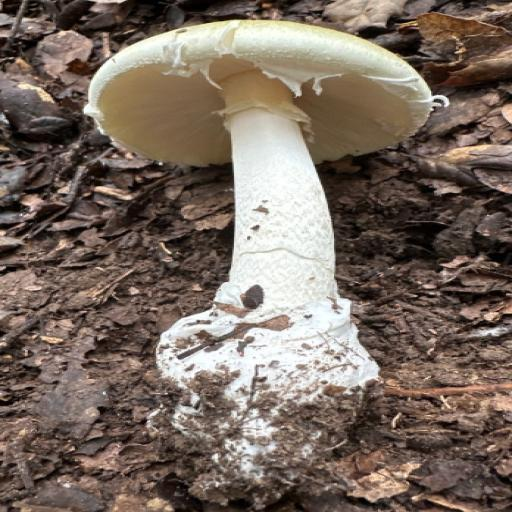mushroom: (83, 0, 495, 511)
